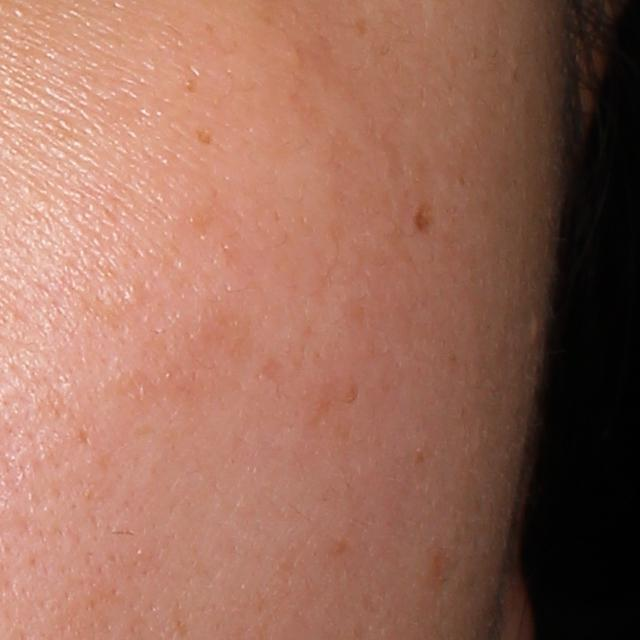melasma: (410, 195, 438, 238), (351, 14, 372, 39), (192, 127, 214, 147), (183, 76, 201, 97)
